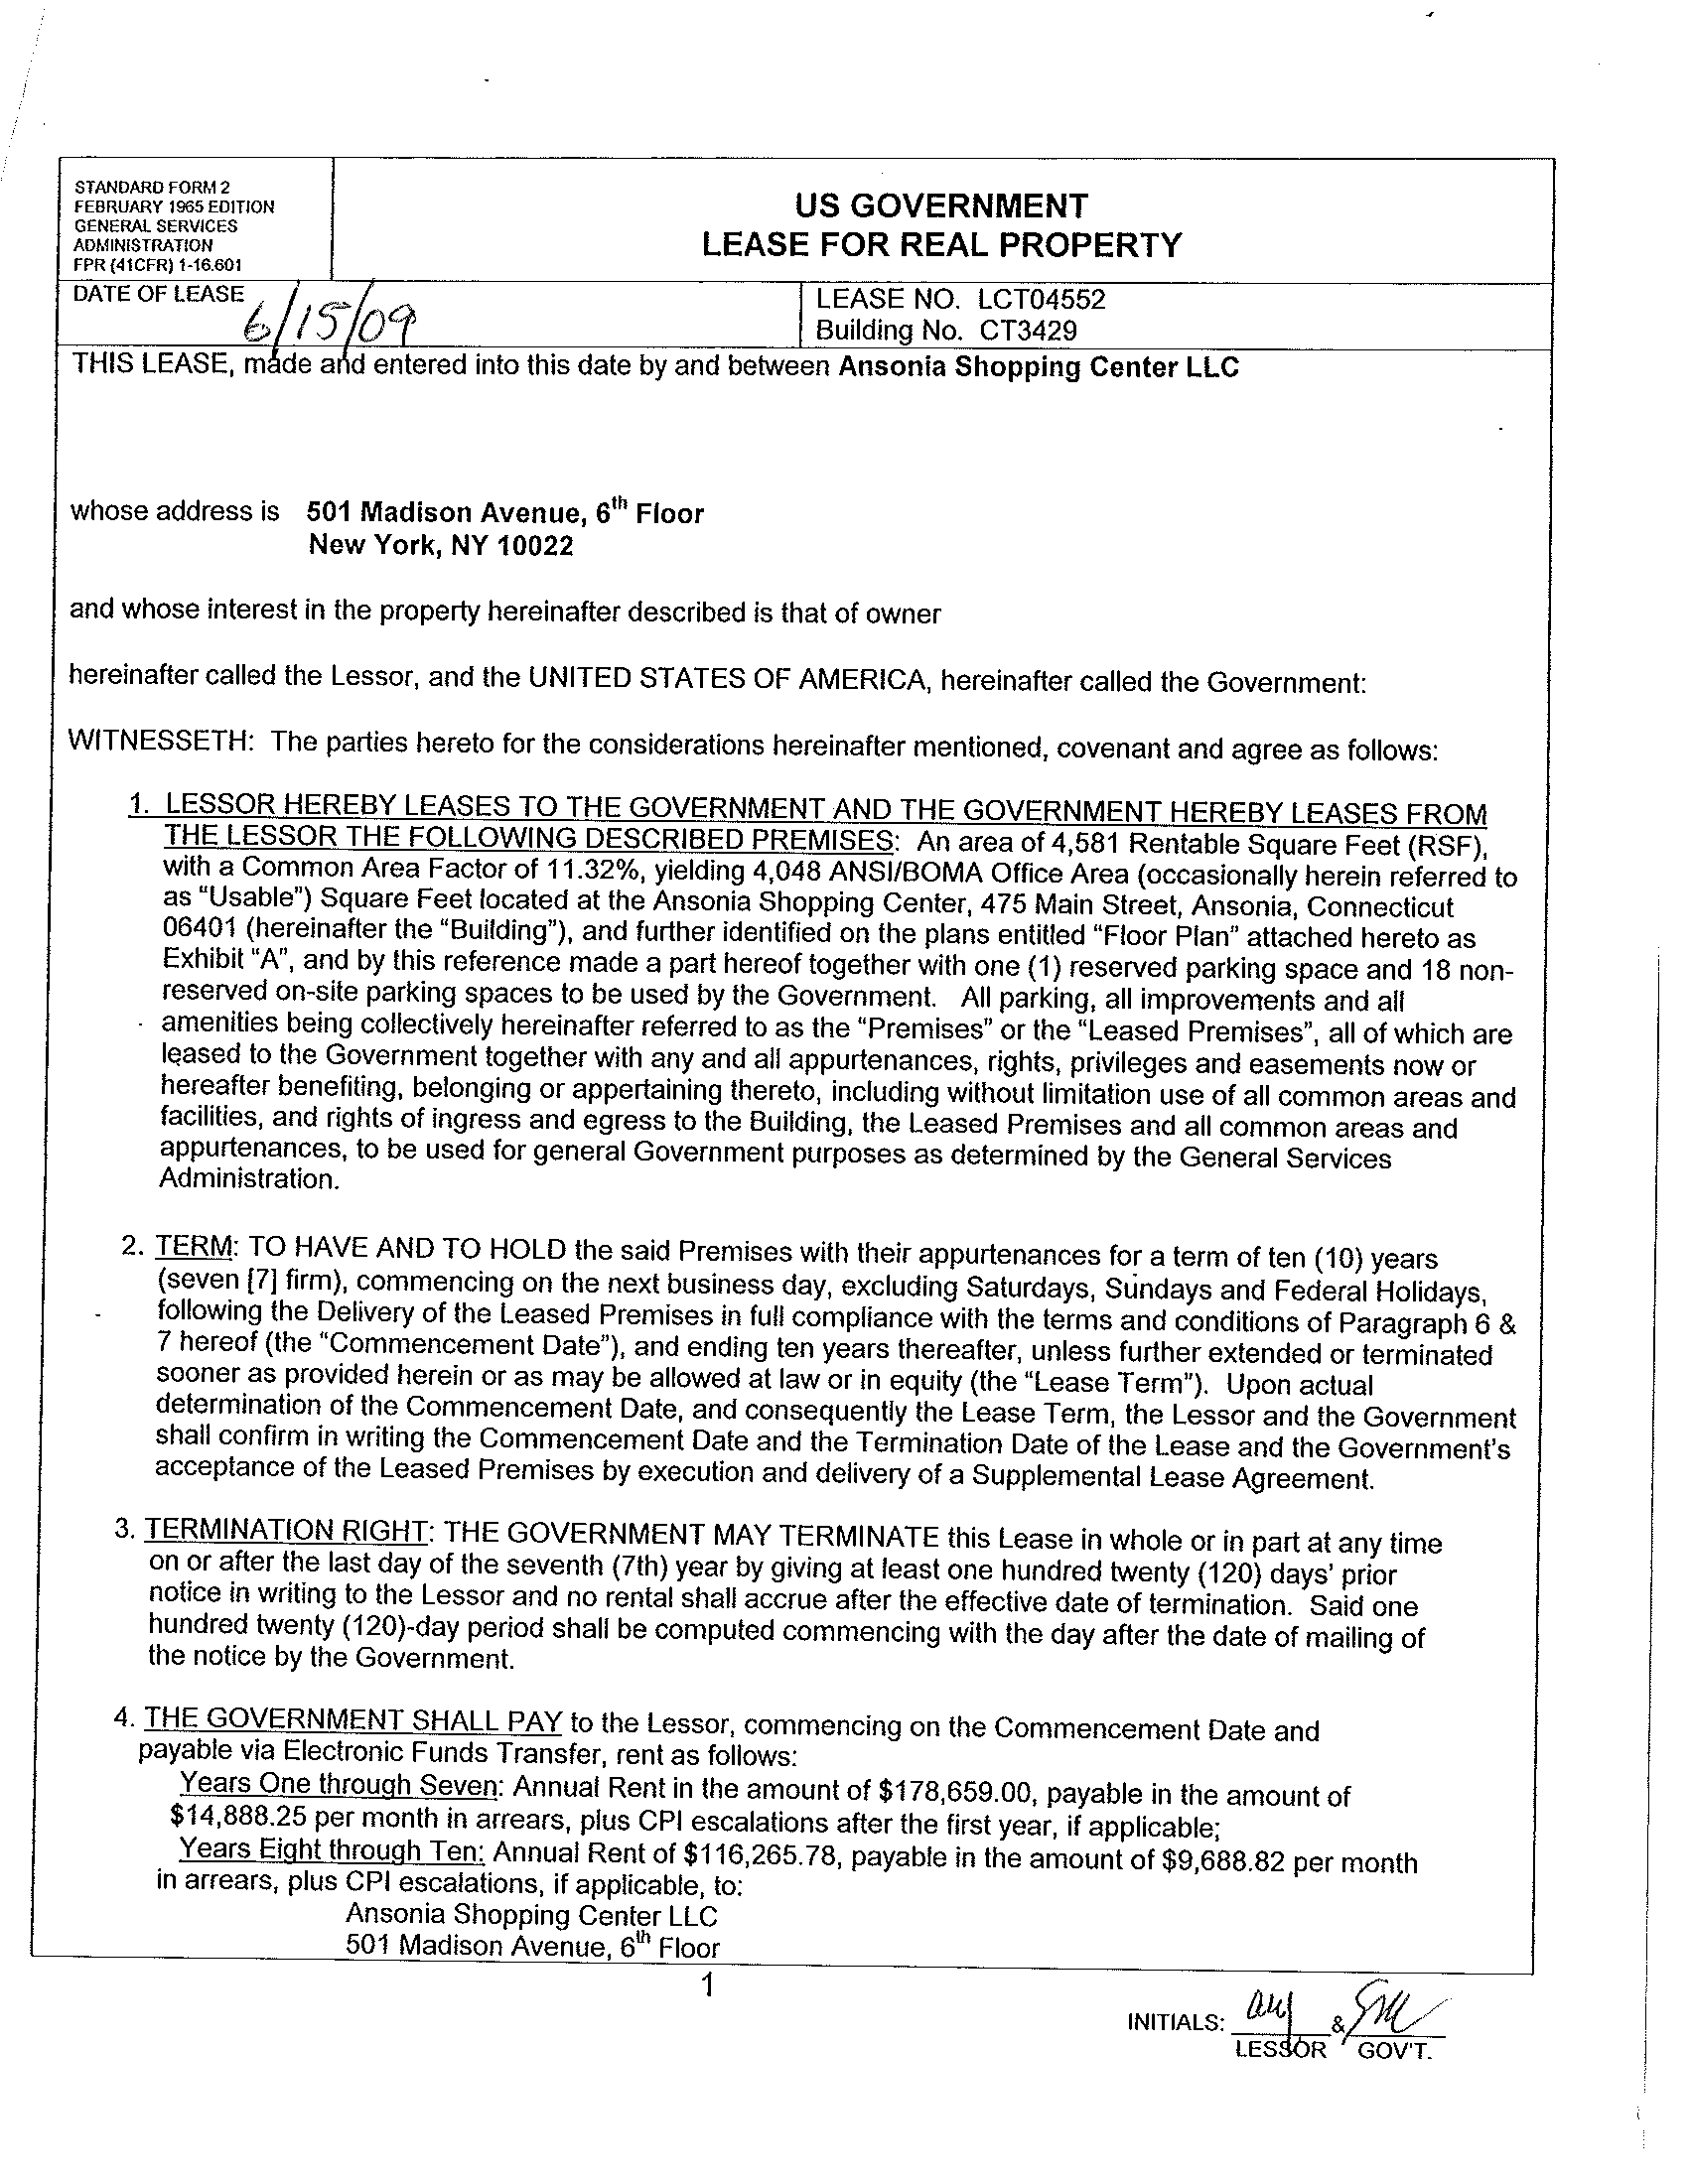handwritten: (236, 280, 442, 353), (1348, 1966, 1456, 2042), (1231, 1964, 1311, 2039)
